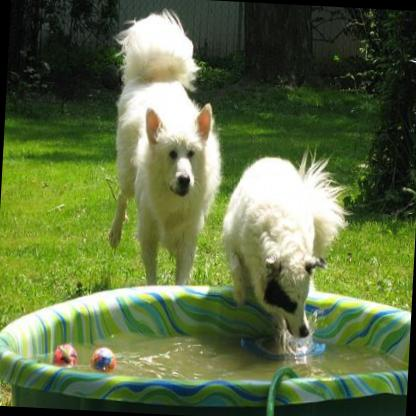Great_Pyrenees: (102, 6, 230, 289), (216, 148, 348, 340)
